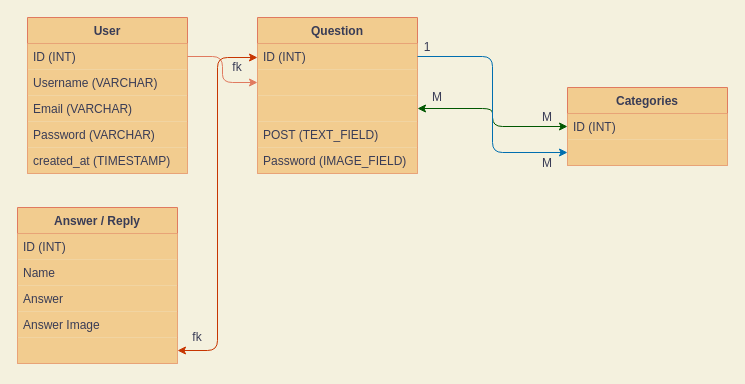
The diagram is 745 pixels wide and 384 high, and some of its shapes have lost their labels. Each missing label, with the centre of its shape:
"Account ID (INT)" goes at point (337, 82).
"Ans_Post ID (INT)" goes at point (647, 152).
"Categories ID (INT)" goes at point (337, 108).
"Question ID" goes at point (97, 350).
